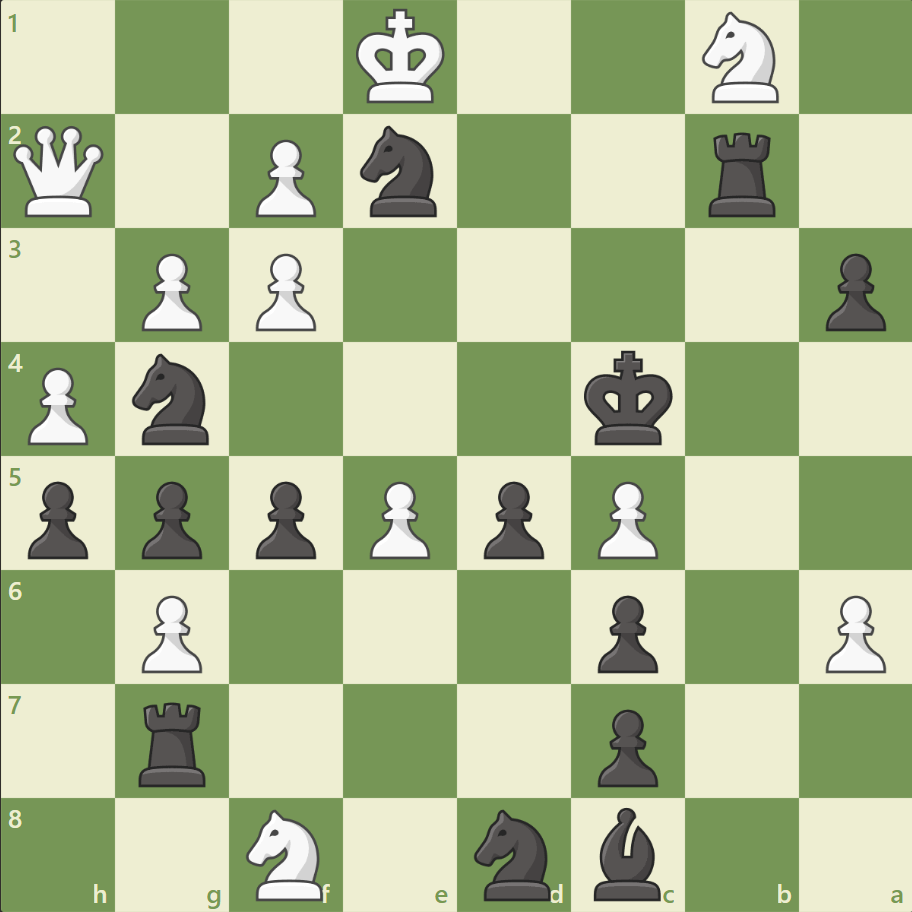K: (351, 4, 451, 112)
N: (692, 7, 789, 110), (238, 802, 335, 904)
P: (133, 586, 208, 677), (20, 359, 95, 450), (247, 246, 322, 337), (133, 246, 208, 337), (247, 132, 322, 223), (815, 586, 889, 677), (588, 473, 662, 564), (361, 473, 435, 564)
Q: (10, 122, 109, 222)
b: (585, 801, 669, 904)
k: (579, 344, 679, 452)
n: (124, 348, 222, 450), (351, 121, 449, 223), (465, 802, 562, 904)
p: (474, 473, 549, 564), (247, 473, 322, 564), (133, 473, 208, 564), (20, 473, 95, 564), (588, 700, 662, 791), (588, 586, 662, 677), (815, 246, 889, 337)
r: (700, 125, 783, 222), (133, 693, 215, 790)
